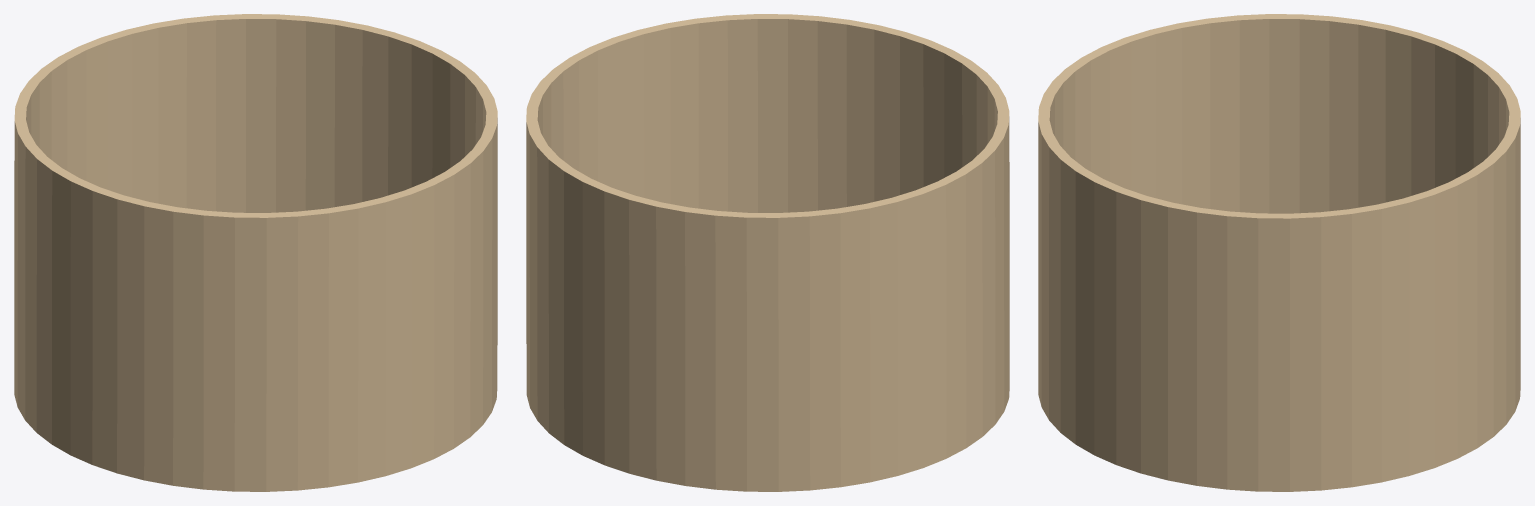
File: scotch3850_ring.glb
3 views of the same model, side by side, from view 1: azimuth 30°, elevation 25°; view 2: azimuth 150°, elevation 25°; view 3: azimuth 270°, elevation 25° (orthographic).
Visible parts, largest first — view 1: world; view 2: world; view 3: world.
Part boxes in pixels (x1,y1,x2,y2): world: (14, 14, 497, 491); world: (526, 14, 1009, 491); world: (1038, 14, 1520, 491).
Size of the model in its own units: 0.08 by 0.0501 by 0.0799.
